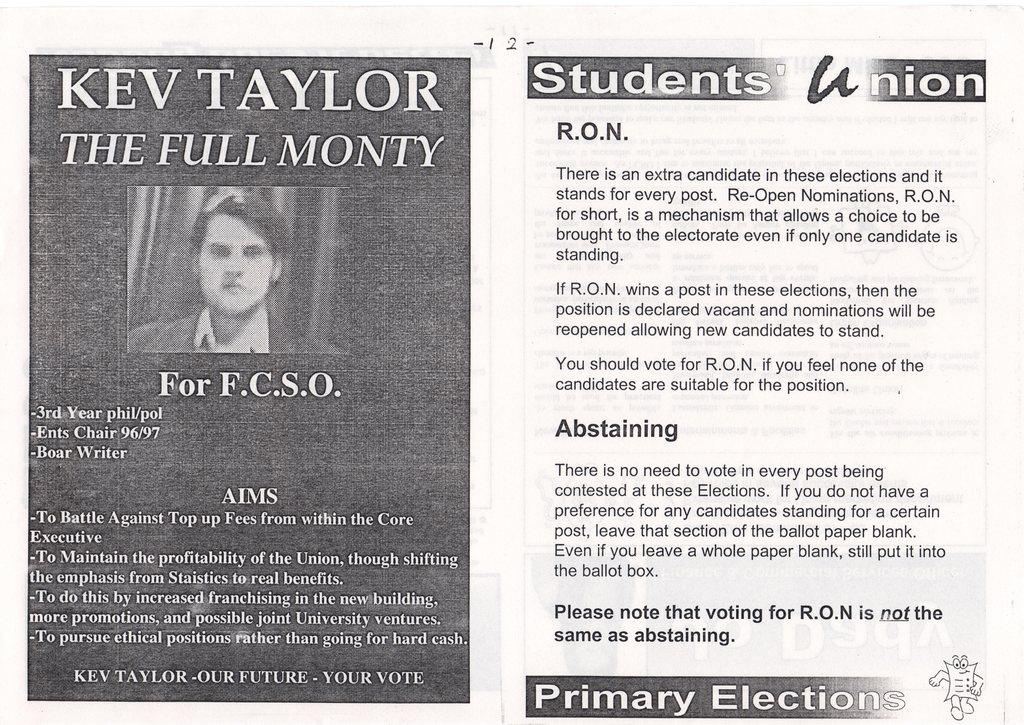book: (0, 1, 1023, 724)
